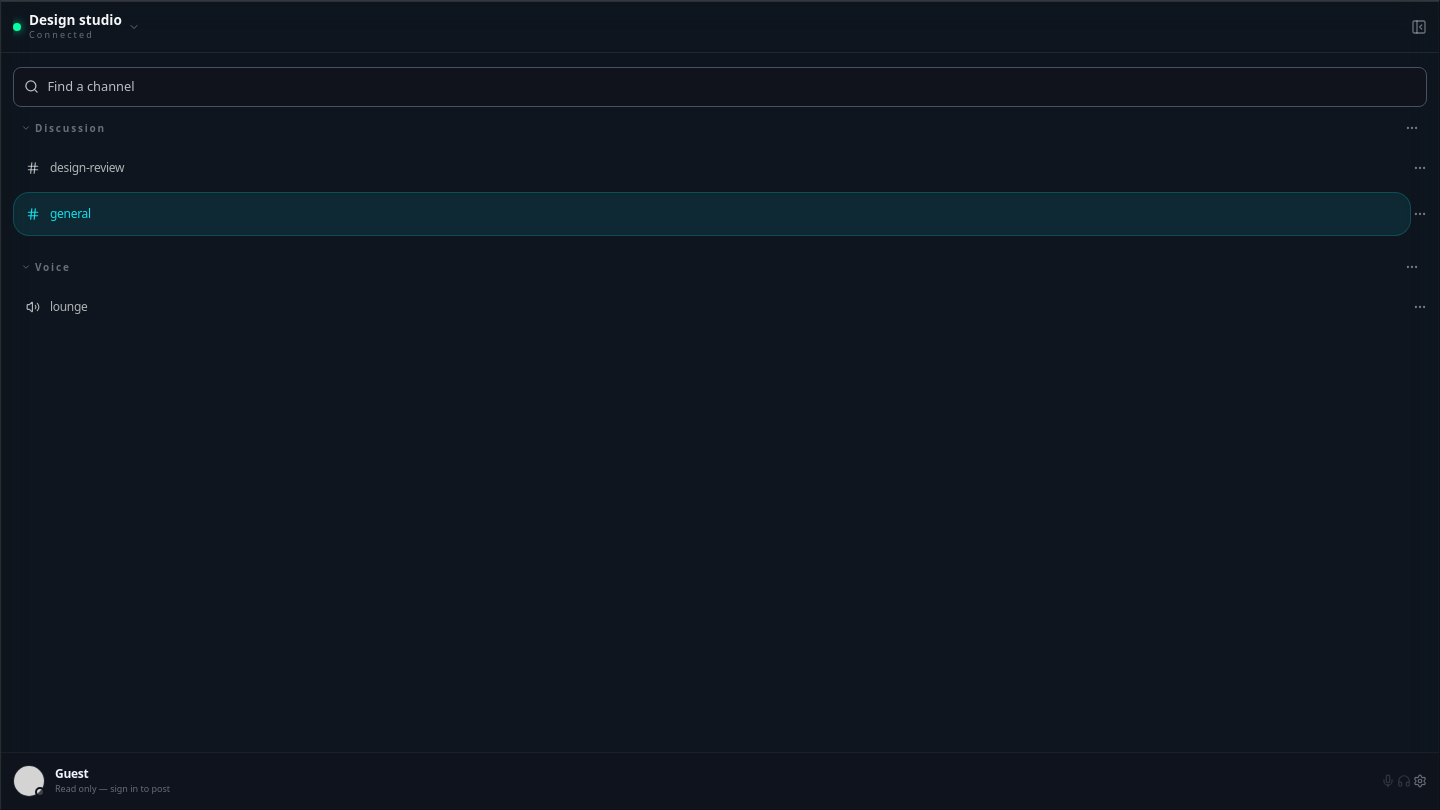
Test: ChannelRail local navigation filter › matches category names and provides recovery for an empty result
In the search field named "Filter channels": [735, 87] box [47,77,1423,96], type "discussion"
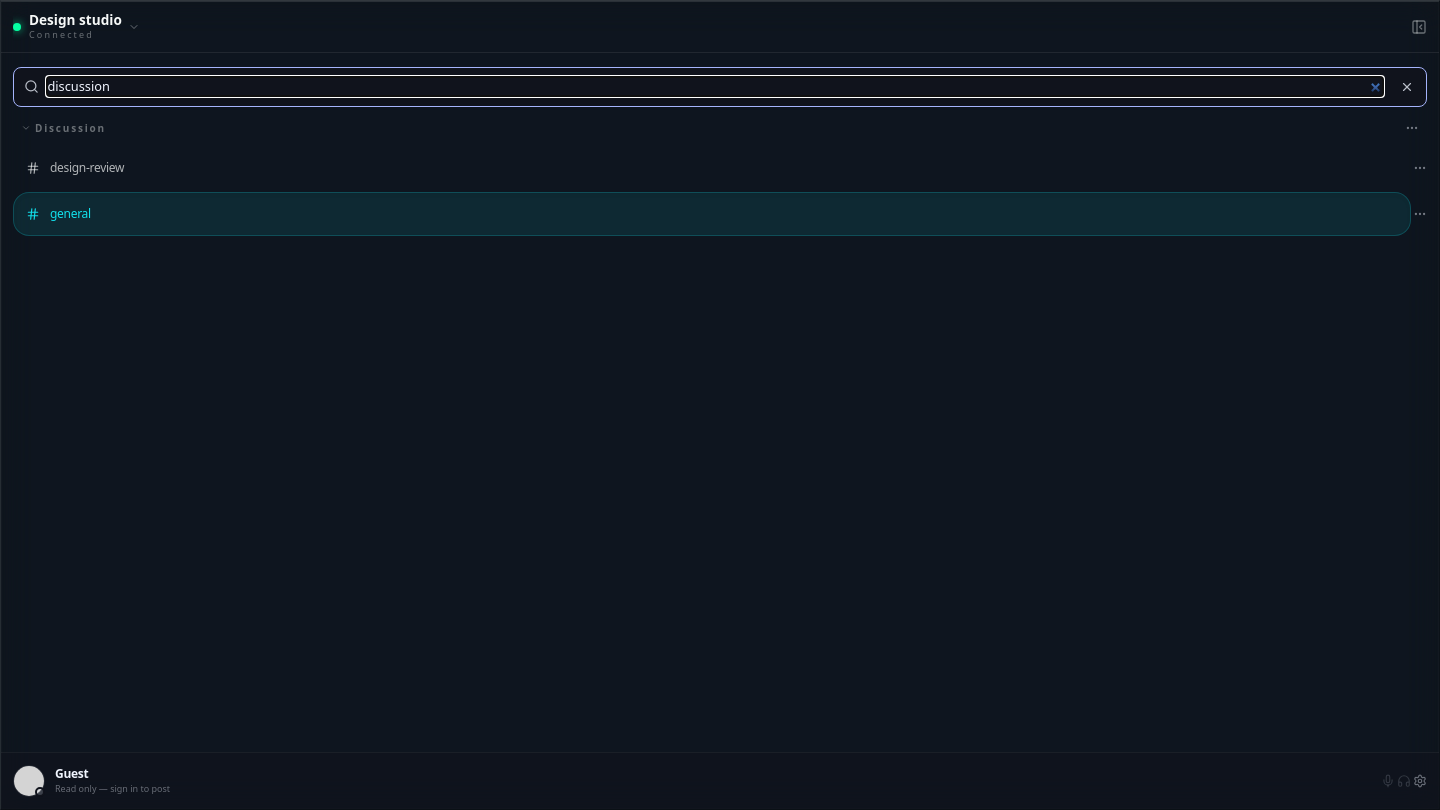
Expected: the text "design-review" is shown, [50,159,124,176]
Expected: the button "lounge" is gone
Clear the search field named "Filter channels": [715, 87] box [47,77,1383,96]
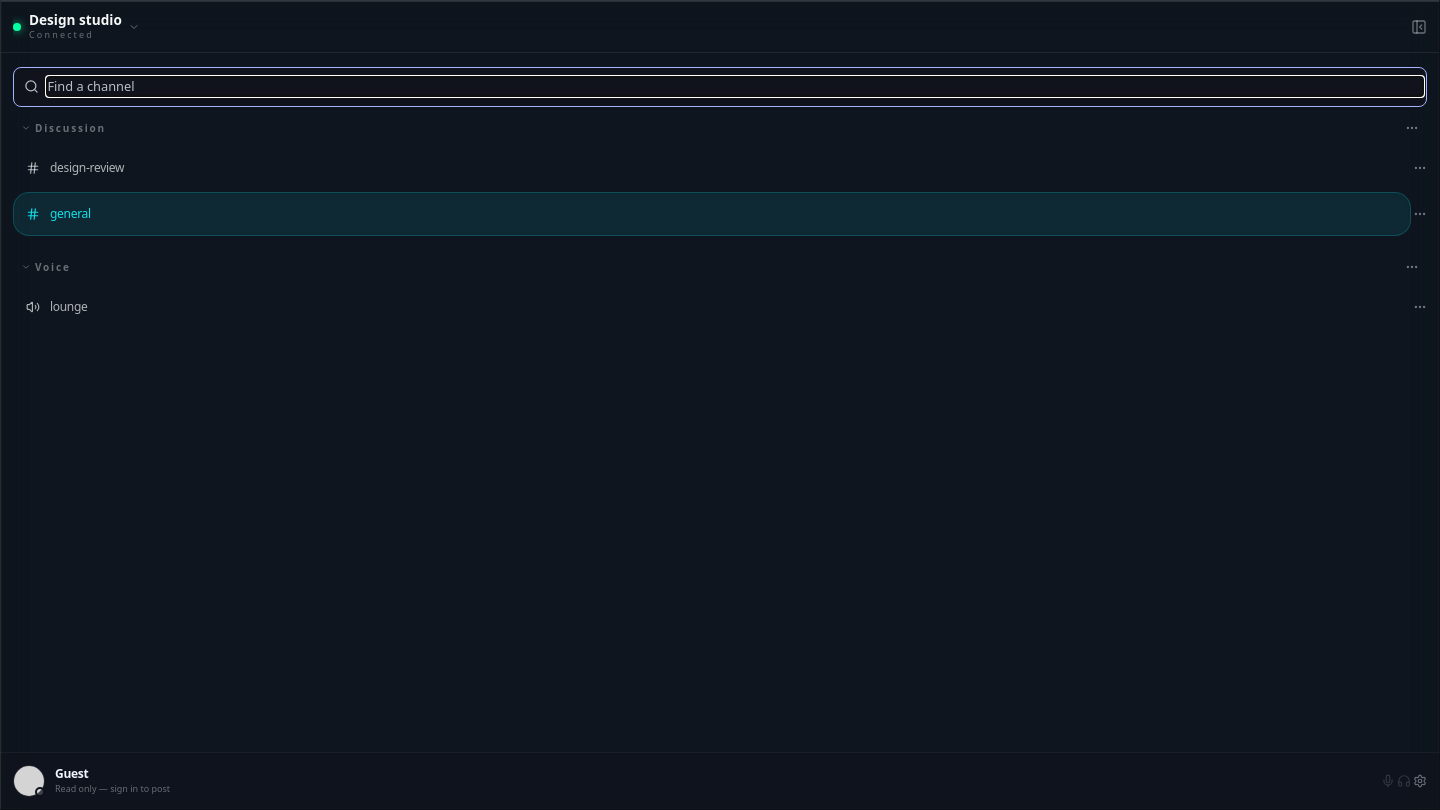
In the search field named "Filter channels": [735, 87] box [47,77,1423,96], type "no-channel"
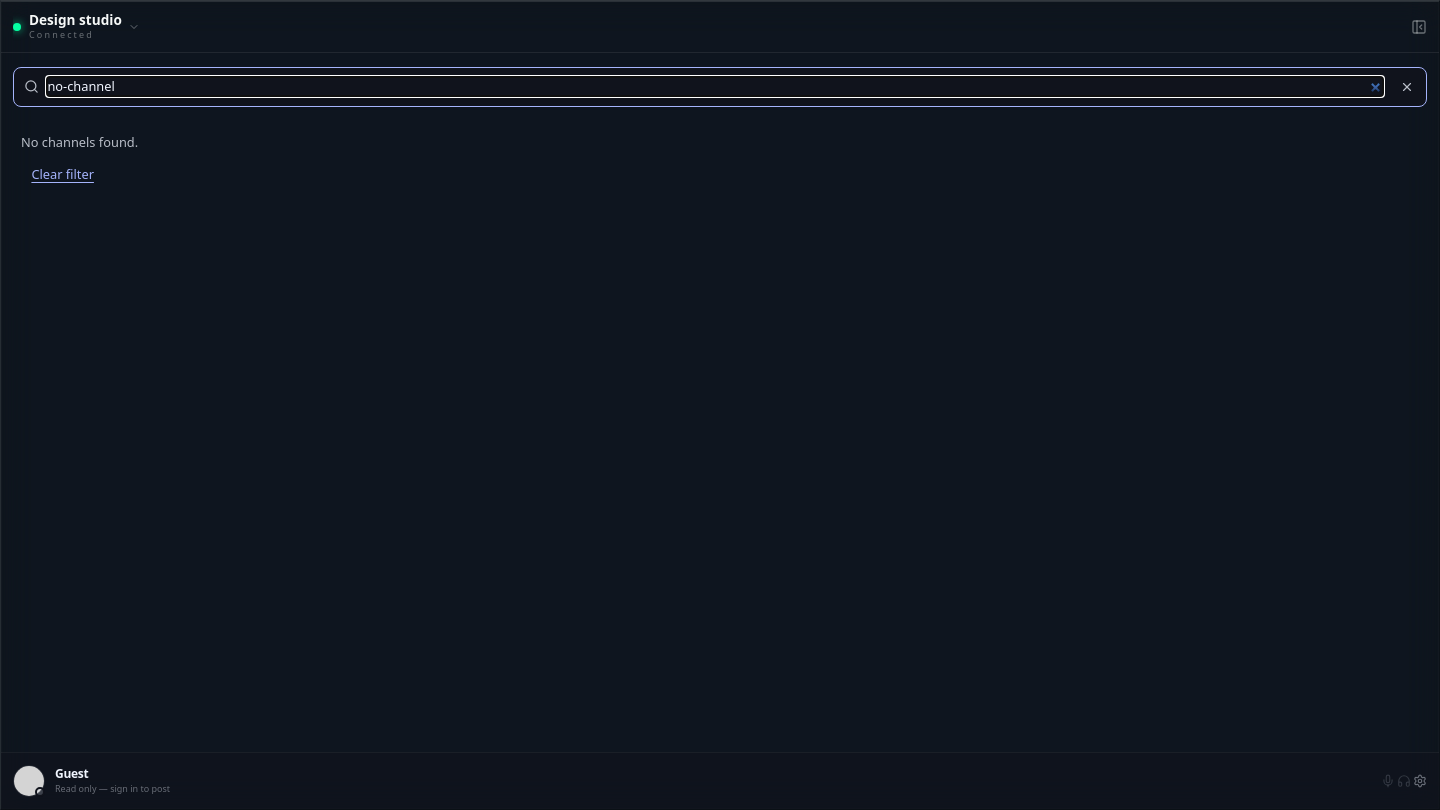
Expected: the text "No channels found." is shown, [21,133,138,151]
Click the button "Clear filter": [63, 174] box [21,152,104,196]
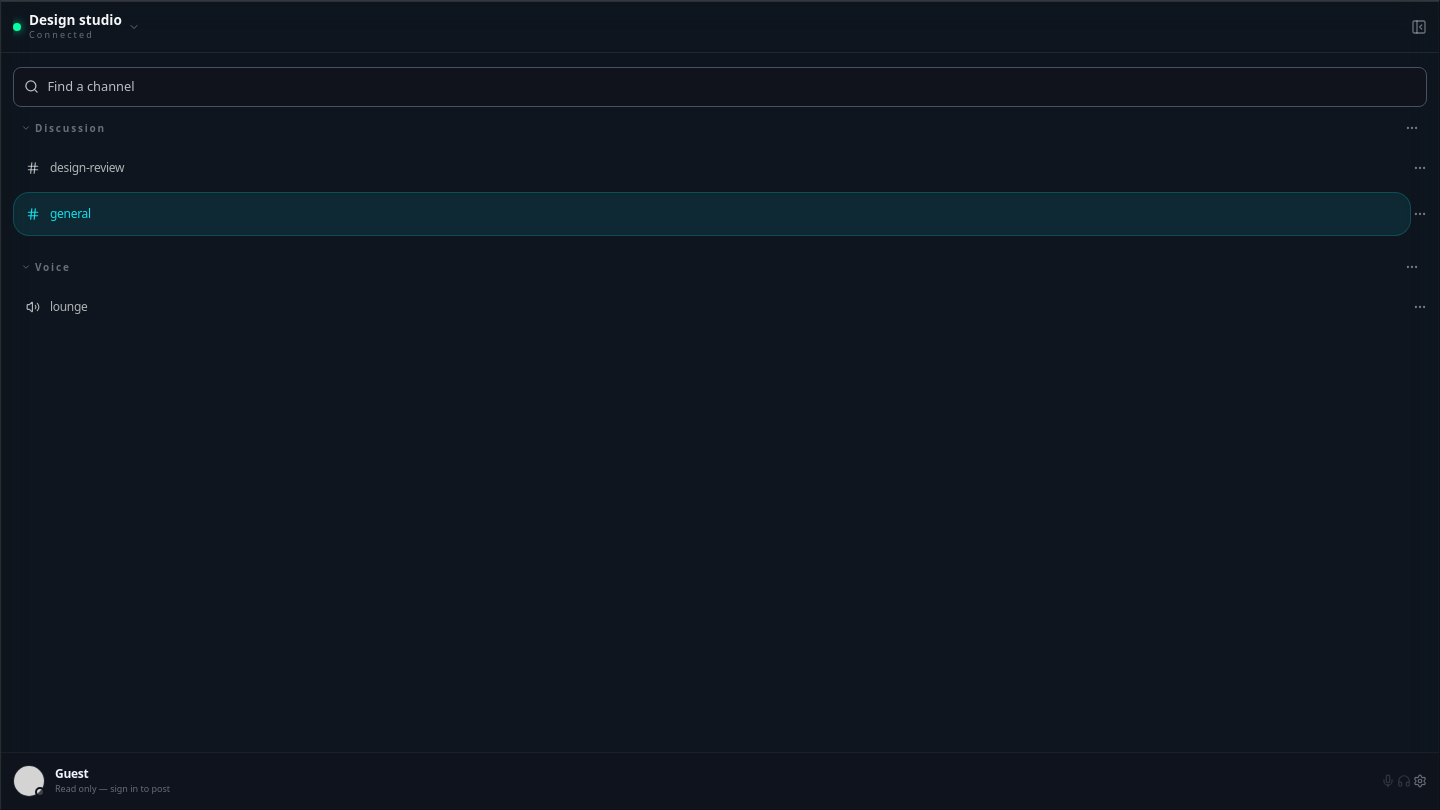
Expected: the text "lounge" is shown, [50,298,88,315]
